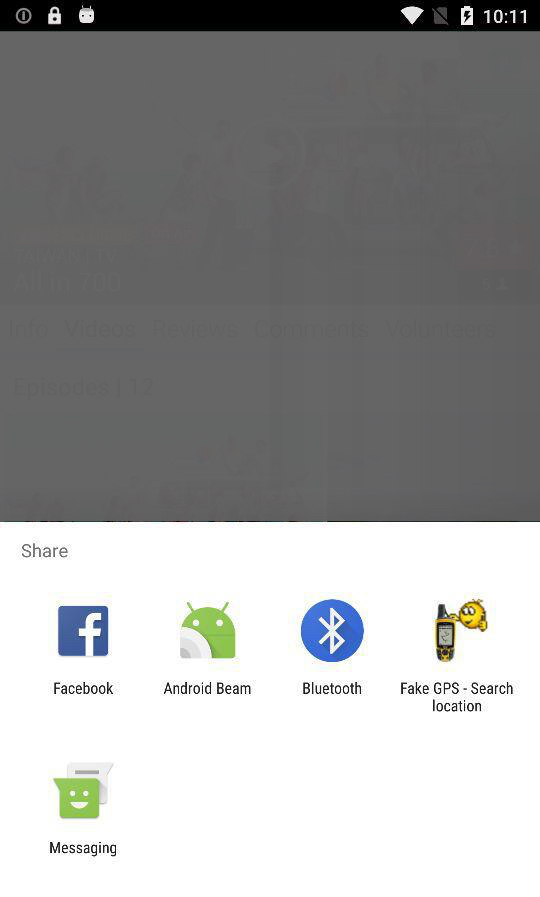Icon: (300, 599, 365, 663), (58, 605, 110, 657)
Image: (53, 761, 116, 820), (433, 598, 489, 663), (180, 601, 237, 660)
Modal: (1, 523, 540, 897)
Text: (400, 681, 514, 713), (164, 681, 252, 696), (50, 840, 118, 858), (54, 681, 115, 696), (302, 681, 362, 696), (22, 543, 70, 559)
UpperTaskBar: (1, 1, 540, 33)
